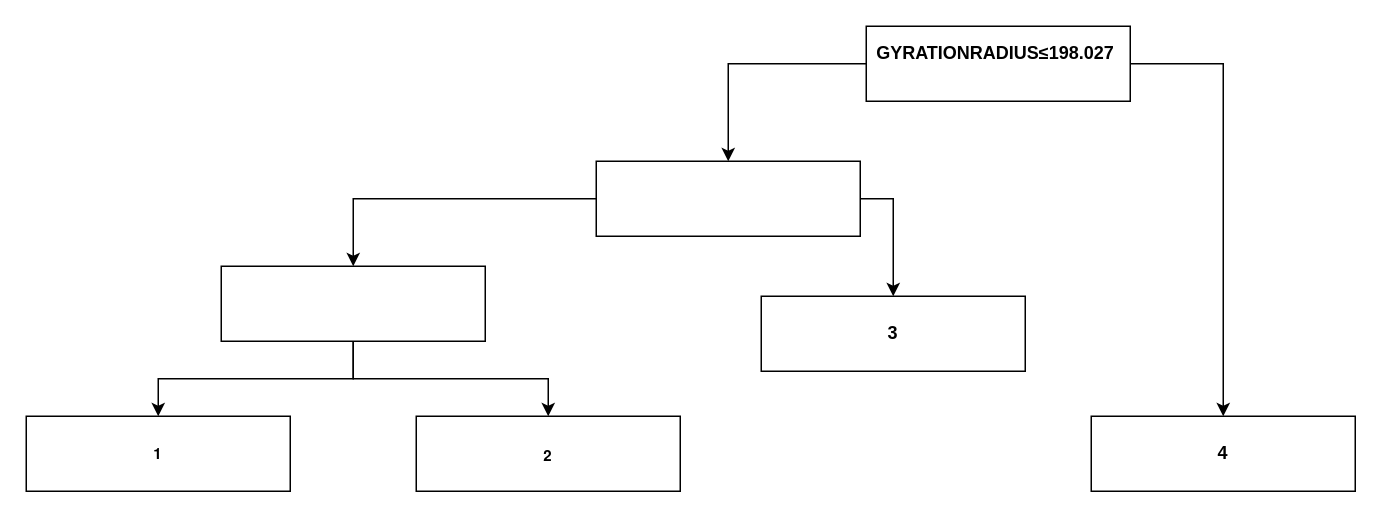
The diagram is 1382 pixels wide and 518 high, and some of its shapes have lost their labels. The shapes that lost their labels are listed below. From the top down, each one's box as (x1, y1, x2, y2) in pixels, then its label:
(595, 160, 860, 236): GYRATIONRADIUS≤174.74
(220, 265, 485, 341): MAJORKURTOSIS ≤ 186.49
